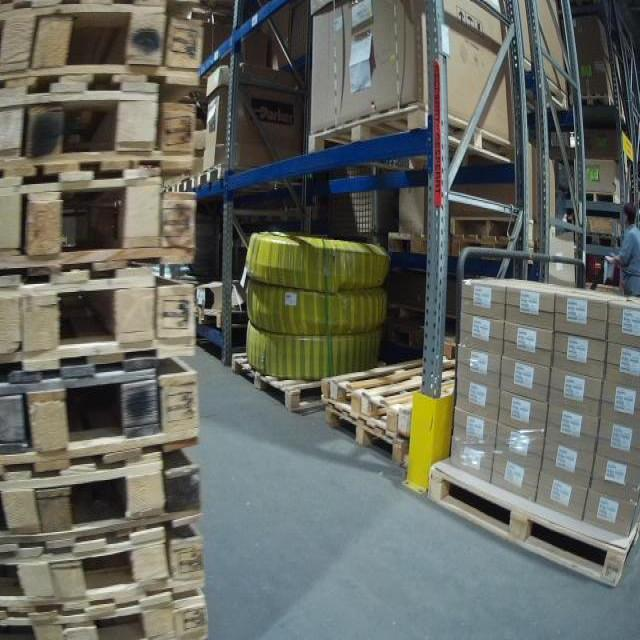pallet: (429, 432, 639, 589), (5, 376, 201, 470), (9, 177, 198, 274), (5, 10, 204, 98), (6, 280, 198, 370), (305, 95, 516, 174), (7, 455, 197, 541), (6, 526, 205, 608), (7, 94, 204, 168), (320, 338, 449, 436), (233, 339, 331, 422), (386, 226, 553, 265), (323, 405, 413, 471), (522, 50, 572, 132), (196, 161, 287, 193), (451, 212, 532, 243), (192, 304, 250, 330), (581, 183, 624, 208), (582, 232, 628, 253), (174, 172, 201, 203), (570, 91, 619, 105)
pallet_truck: (587, 250, 622, 293)
stillage: (309, 161, 406, 251)
